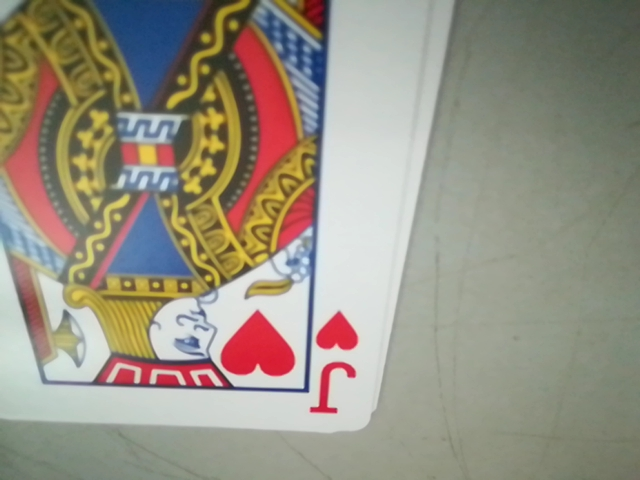hx j: (307, 306, 369, 418)
